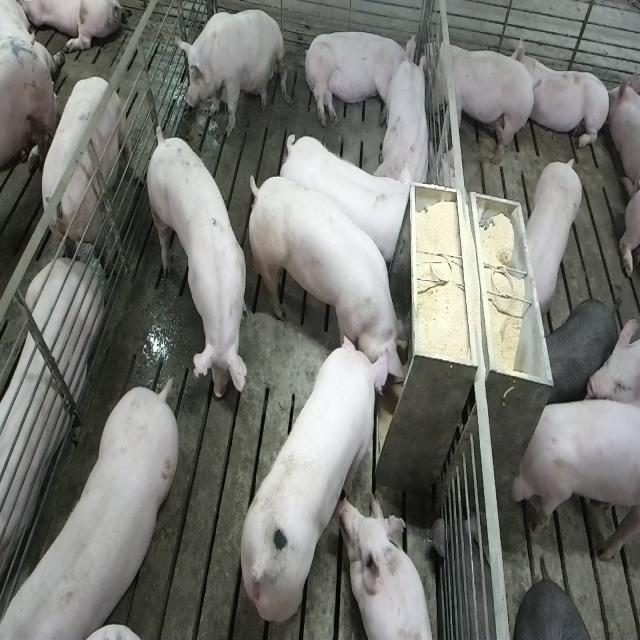Feeding: (238, 332, 397, 625), (251, 173, 416, 393)
Lateral_lying: (302, 28, 418, 129)
Sitting: (174, 7, 285, 139)
Standing: (5, 382, 181, 640), (144, 128, 246, 414), (33, 74, 132, 280), (510, 399, 637, 552), (280, 128, 410, 262), (422, 31, 537, 168), (523, 152, 587, 316), (542, 296, 619, 405)
Sternal_lying: (0, 253, 100, 599), (342, 493, 437, 640), (521, 36, 611, 153), (377, 51, 433, 192)
